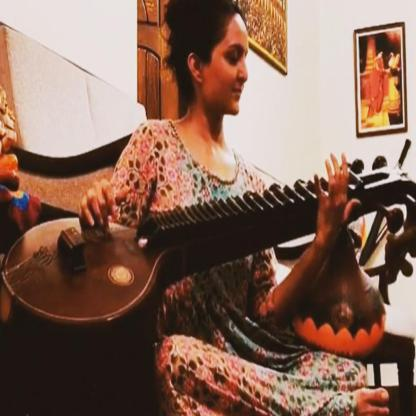Veena: (1, 164, 356, 328)
